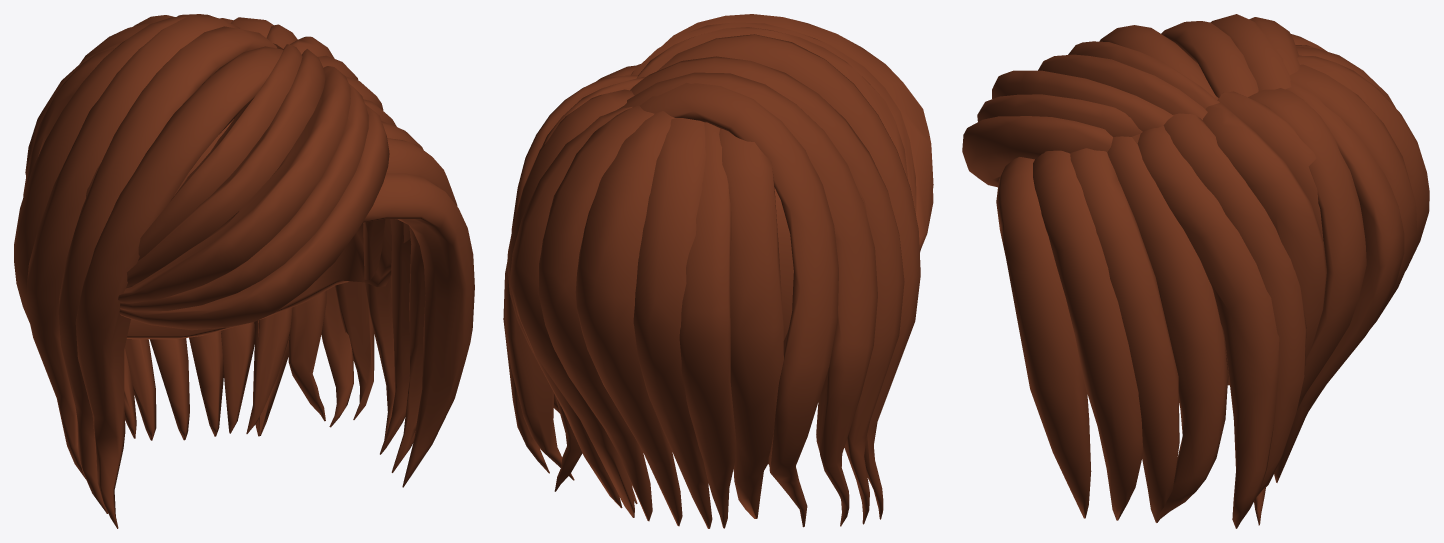
File: hair-2-fe80aa74.glb
The picture shows the model from 3 angles, left to right: view 1: azimuth 30°, elevation 25°; view 2: azimuth 150°, elevation 25°; view 3: azimuth 270°, elevation 25°; orthographic projection. The views are drawn at different scales.
Visible parts, largest first — view 1: hair_2.001; view 2: hair_2.001; view 3: hair_2.001.
Part boxes in pixels (x1,y1,x2,y2): hair_2.001: (14,14,474,528); hair_2.001: (503,14,933,528); hair_2.001: (962,14,1429,528).
Bounding box in the file's own units: 2.01 × 2.36 × 2.32.
